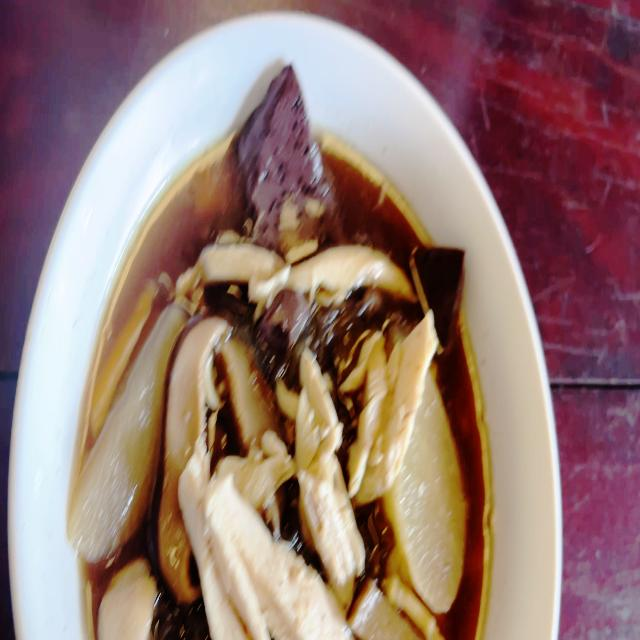boiled_chicken_blood_jelly: (231, 68, 333, 246), (415, 242, 473, 338), (266, 287, 305, 350)
chicken_shredded: (189, 454, 333, 640), (291, 356, 356, 601), (359, 316, 437, 481), (290, 239, 403, 302), (87, 556, 157, 640), (192, 235, 286, 293)
daikon_radish: (75, 309, 166, 541), (400, 406, 460, 606)
noodle: (85, 128, 488, 640)
